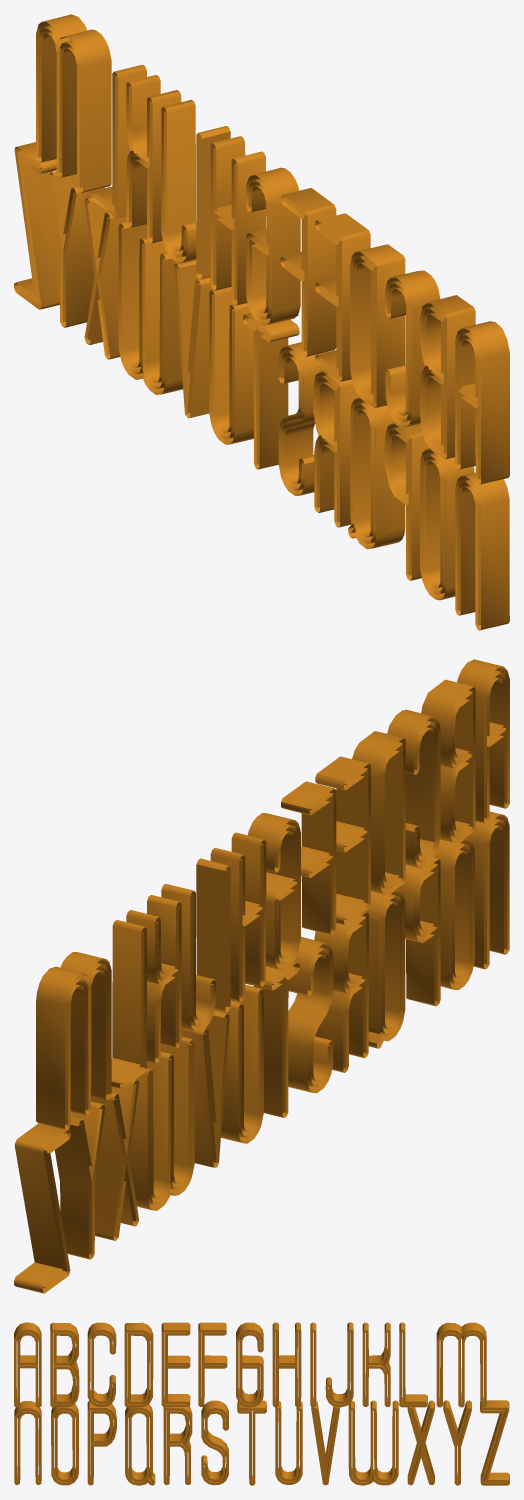
3 views of the same model, one above another, from view 1: azimuth 30°, elevation 25°; view 2: azimuth 150°, elevation 25°; view 3: azimuth 270°, elevation 25° (orthographic). The views are drawn at different scales.
Parts seen in each view (by area): view 1: text_m, text_w, text_a, text_n, text_d, text_g, text_h, text_u, text_q, text_b, text_k, text_f (+14 smaller); view 2: text_m, text_w, text_z, text_b, text_e, text_h, text_s, text_d, text_r, text_c, text_k, text_f (+14 smaller); view 3: text_w, text_m, text_b, text_g, text_d, text_e, text_s, text_a, text_q, text_r, text_h, text_k (+14 smaller).
Boxes of the visible parts, x1=… form: text_m: x1=36, y1=14, x2=111, y2=193; text_w: x1=118, y1=222, x2=182, y2=394; text_a: x1=455, y1=321, x2=509, y2=484; text_n: x1=455, y1=472, x2=509, y2=630; text_d: x1=350, y1=244, x2=405, y2=407; text_g: x1=246, y1=167, x2=300, y2=325; text_h: x1=210, y1=136, x2=265, y2=305; text_u: x1=209, y1=286, x2=253, y2=444; text_q: x1=348, y1=397, x2=405, y2=549; text_b: x1=419, y1=295, x2=475, y2=459; text_k: x1=126, y1=75, x2=181, y2=243; text_f: x1=280, y1=188, x2=336, y2=356; text_m: x1=36, y1=952, x2=111, y2=1130; text_w: x1=129, y1=1036, x2=194, y2=1210; text_z: x1=14, y1=1123, x2=70, y2=1293; text_b: x1=421, y1=679, x2=475, y2=843; text_e: x1=315, y1=756, x2=370, y2=924; text_h: x1=210, y1=832, x2=266, y2=1002; text_s: x1=288, y1=937, x2=333, y2=1093; text_d: x1=352, y1=731, x2=405, y2=894; text_r: x1=314, y1=911, x2=368, y2=1072; text_c: x1=387, y1=709, x2=440, y2=868; text_k: x1=126, y1=895, x2=181, y2=1063; text_f: x1=281, y1=781, x2=336, y2=935; text_w: x1=348, y1=1400, x2=398, y2=1485; text_m: x1=436, y1=1322, x2=486, y2=1407; text_b: x1=50, y1=1322, x2=79, y2=1407; text_g: x1=236, y1=1322, x2=263, y2=1407; text_d: x1=124, y1=1322, x2=153, y2=1407; text_e: x1=161, y1=1322, x2=190, y2=1406; text_s: x1=201, y1=1400, x2=228, y2=1485; text_a: x1=14, y1=1322, x2=41, y2=1407; text_q: x1=125, y1=1404, x2=155, y2=1485; text_r: x1=163, y1=1406, x2=192, y2=1484; text_h: x1=272, y1=1322, x2=301, y2=1407; text_k: x1=362, y1=1322, x2=390, y2=1406.
Bounding box in the file's own units: 5.05 × 49.4 × 142.
